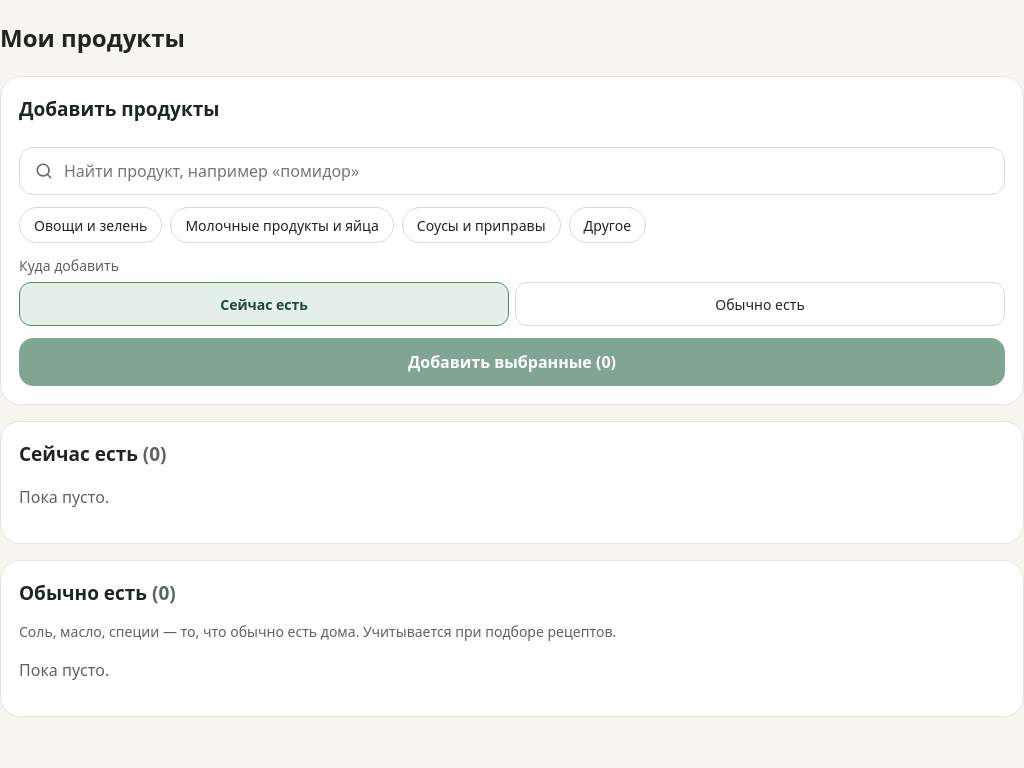
Test: свой продукт при частичном совпадении › предлагается ссылкой, форма раскрывается по нажатию
Check: the heading "Добавить продукты" is shown, box 19,96 -> 219,122
Type "пом" into the search field labelled "Найти продукт" at (512, 171), box 19,147 -> 1005,195
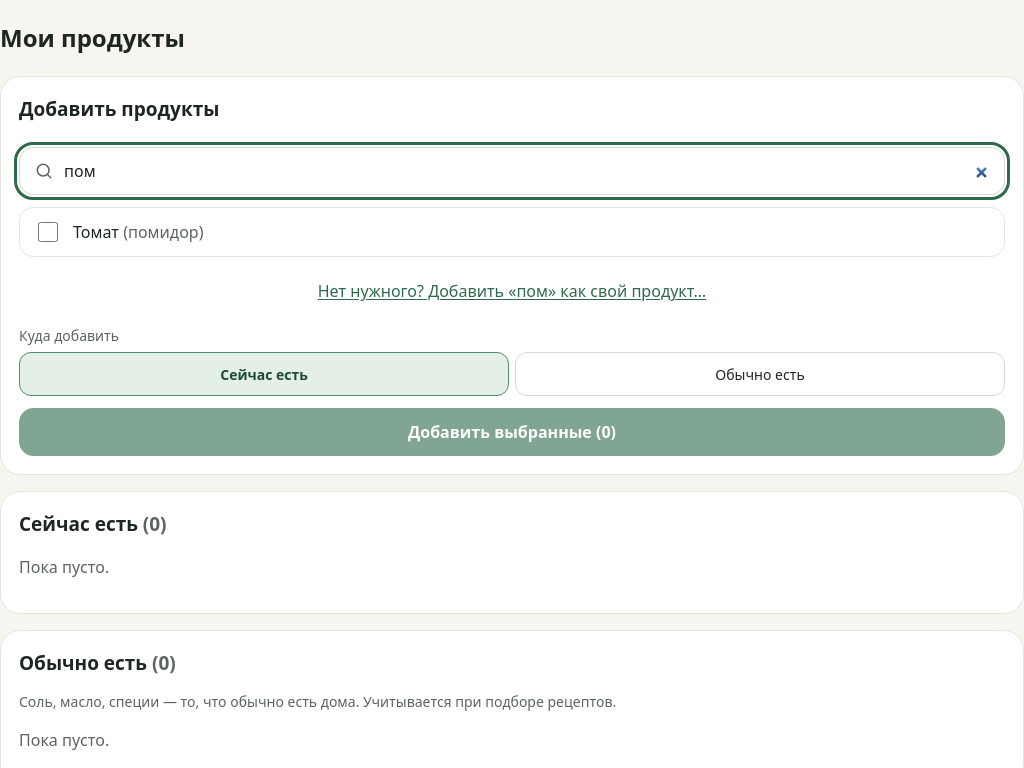
Check: the field labelled "Категория" is not shown
Click the button "Нет нужного? Добавить «пом» как свой продукт…" at (512, 291), box 19,269 -> 1005,313
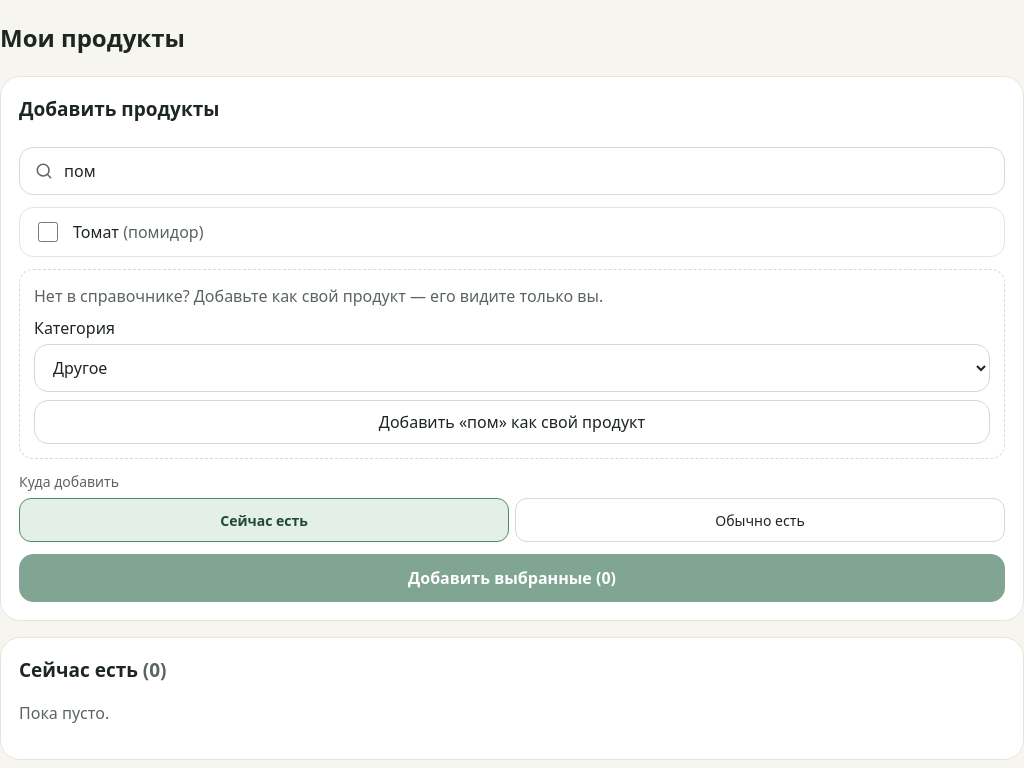
Check: the button "Добавить «пом» как свой продукт" is enabled, box 34,400 -> 990,444
Check: the dropdown labelled "Категория" is shown, box 34,344 -> 990,392
